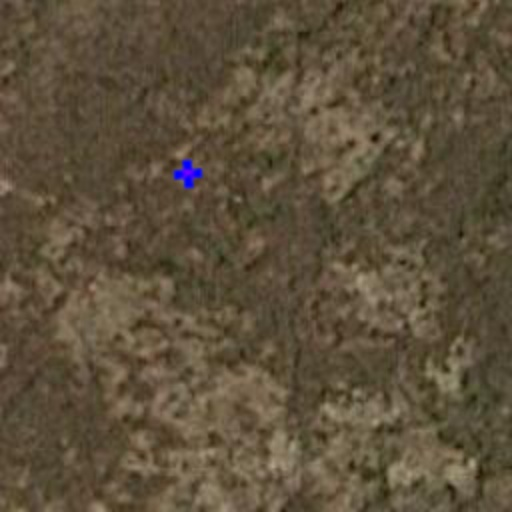cross: (172, 158, 204, 190)
